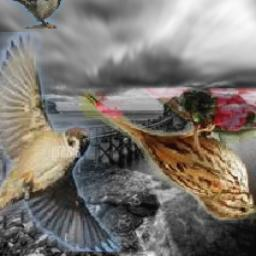Sparrow: (0, 33, 123, 253), (78, 88, 256, 223), (6, 0, 67, 29)
